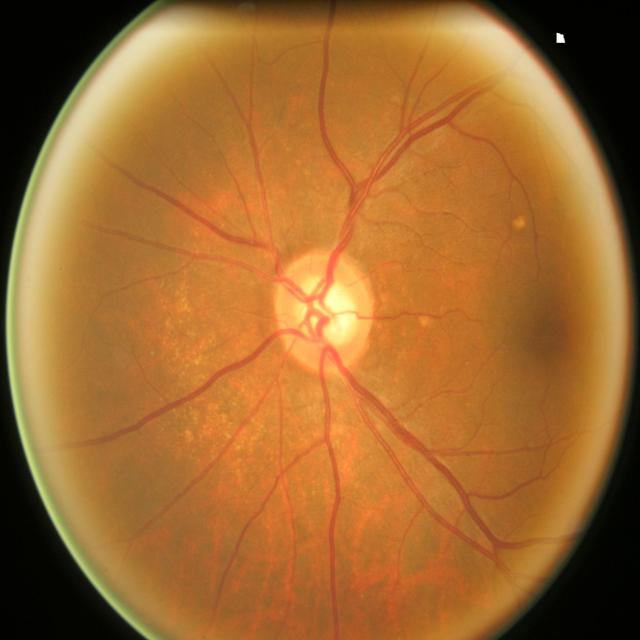OC: (294, 276, 356, 348)
OD: (275, 250, 376, 370)
